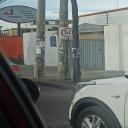speed_limit_50: (58, 27, 78, 41)
